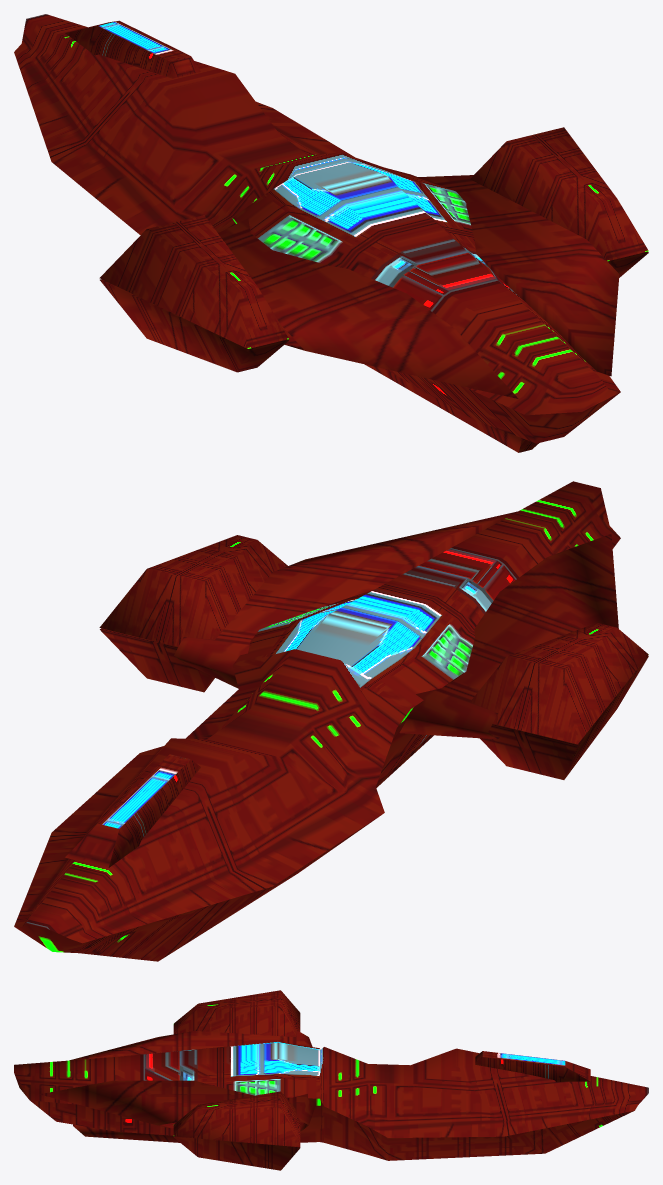
File: Vul_Karan.fbx
The picture shows the model from 3 angles, top to bottom: view 1: azimuth 30°, elevation 25°; view 2: azimuth 150°, elevation 25°; view 3: azimuth 270°, elevation 25°; orthographic projection. The views are drawn at different scales.
Parts seen in each view (by area): view 1: Vul_Karan; view 2: Vul_Karan; view 3: Vul_Karan.
Boxes of the visible parts, x1,y1,x2,y2 form: Vul_Karan: [14, 14, 648, 452]; Vul_Karan: [14, 481, 648, 961]; Vul_Karan: [14, 990, 648, 1170].
Size of the model in its own units: 35.25 by 12.46 by 70.32.
1 material, 1 textured.
